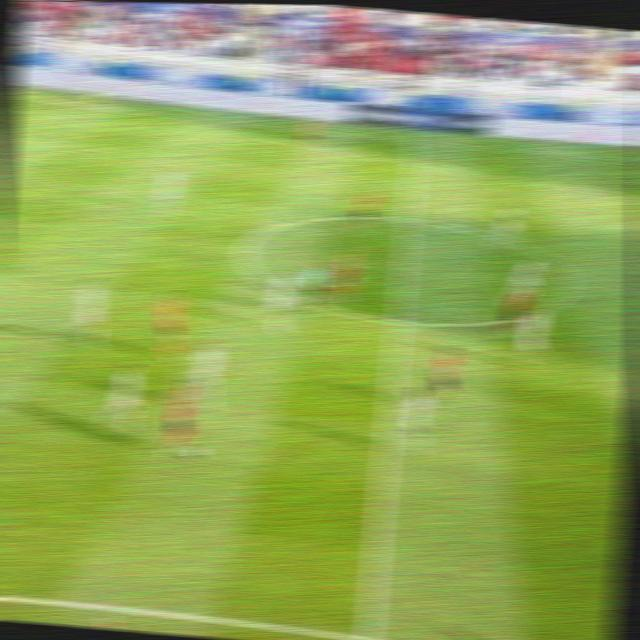halfcircle_bottom: (381, 305, 415, 335)
halfcircle_top: (391, 205, 425, 231)
midline_bottom_intersection: (347, 614, 388, 640)
midline_top_intersection: (402, 130, 428, 150)
